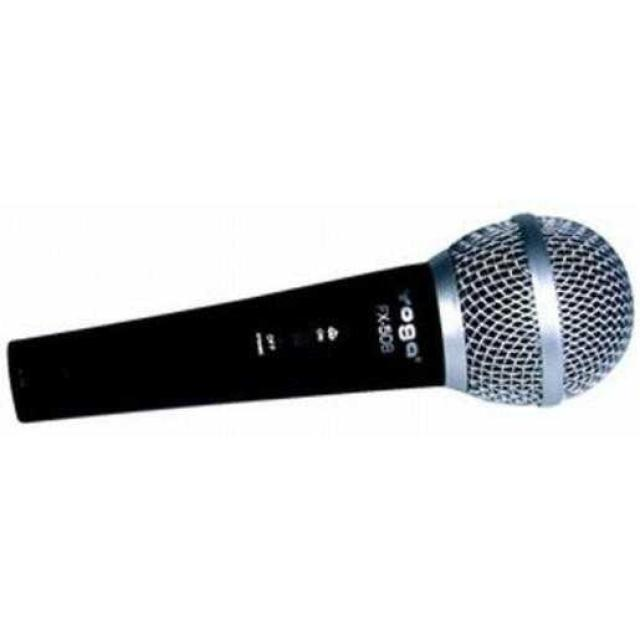microphone: (6, 204, 640, 411)
